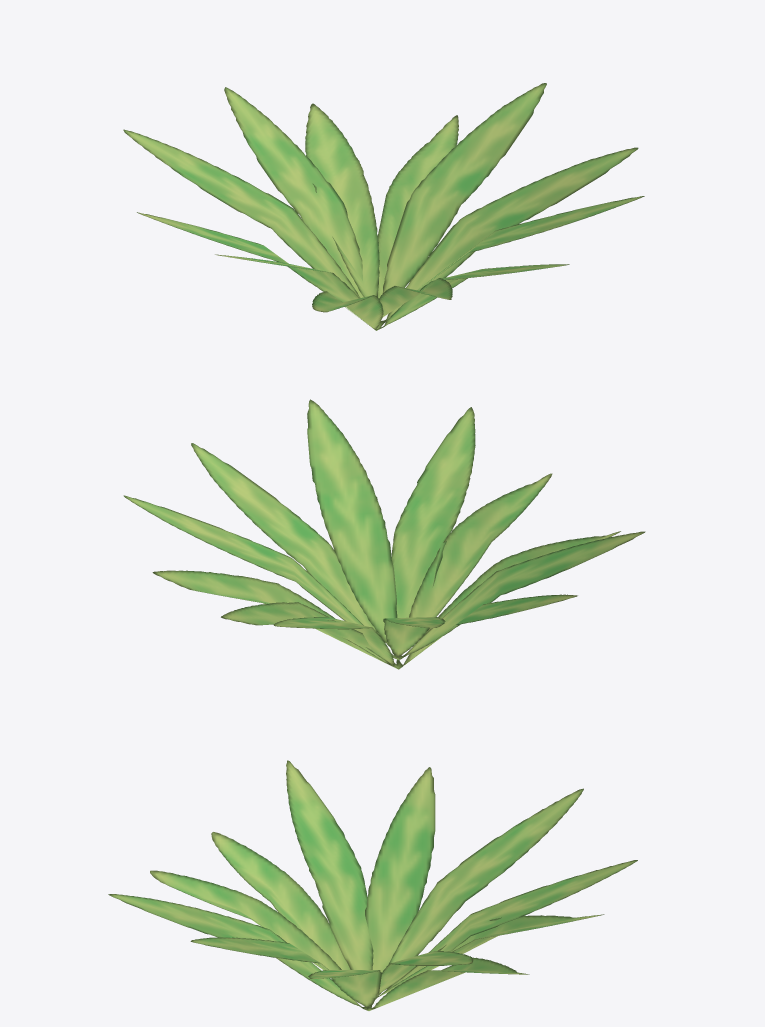
File: LeafSetA_2.fbx
The picture shows the model from 3 angles, top to bottom: view 1: azimuth 30°, elevation 25°; view 2: azimuth 150°, elevation 25°; view 3: azimuth 270°, elevation 25°; orthographic projection. The views are drawn at different scales.
Parts seen in each view (by area): view 1: LeafSetA_2; view 2: LeafSetA_2; view 3: LeafSetA_2.
Boxes of the visible parts, x1,y1,x2,y2 form: LeafSetA_2: (123,83,644,330); LeafSetA_2: (123,399,645,669); LeafSetA_2: (108,760,637,1010).
Bounding box in the file's own units: 0.784 × 0.1852 × 0.7911.
